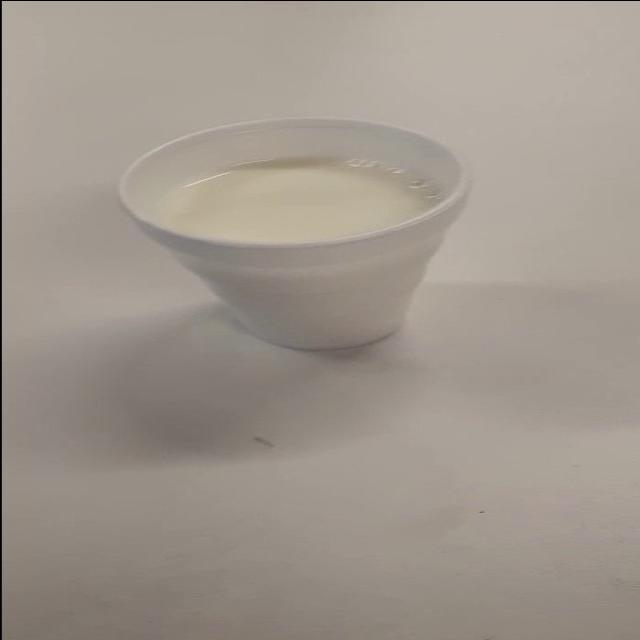Milk: (78, 110, 514, 358)
